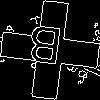B: (25, 25, 64, 74)
